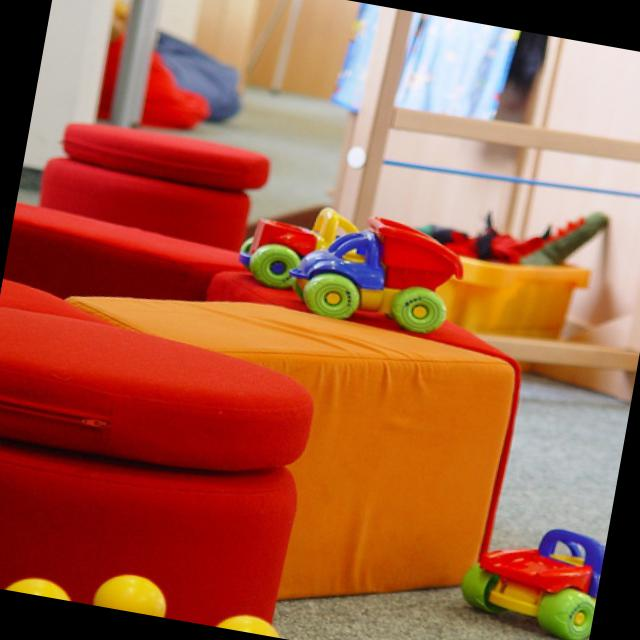cushion occluded: (0, 276, 312, 632)
cushions: (8, 120, 515, 599)
floor -X: (0, 59, 626, 640)
toy: (231, 206, 360, 289)
toy crio: (290, 213, 459, 330)
toy horse: (457, 525, 599, 638)
wall clock: (488, 35, 640, 400), (106, 0, 546, 124), (19, 0, 114, 182)
